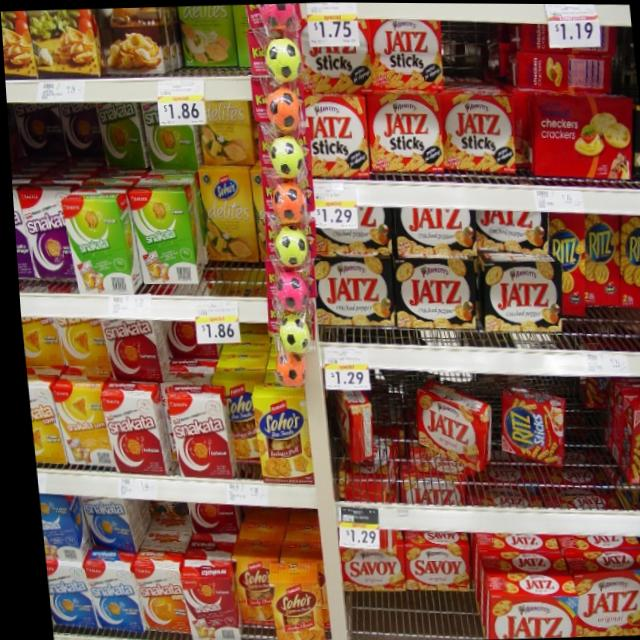q109: (307, 253, 392, 331), (476, 254, 565, 328), (390, 251, 475, 322)
